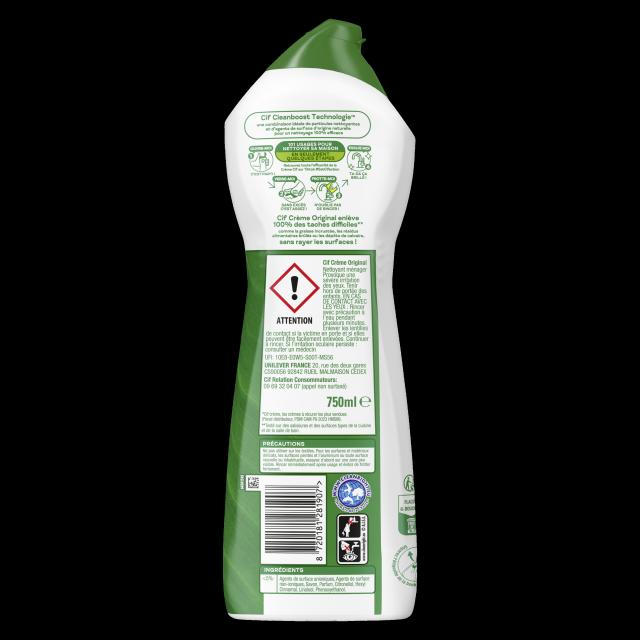GHS_Symbol_EXCLAMATION_MARK: (270, 262, 321, 314)
